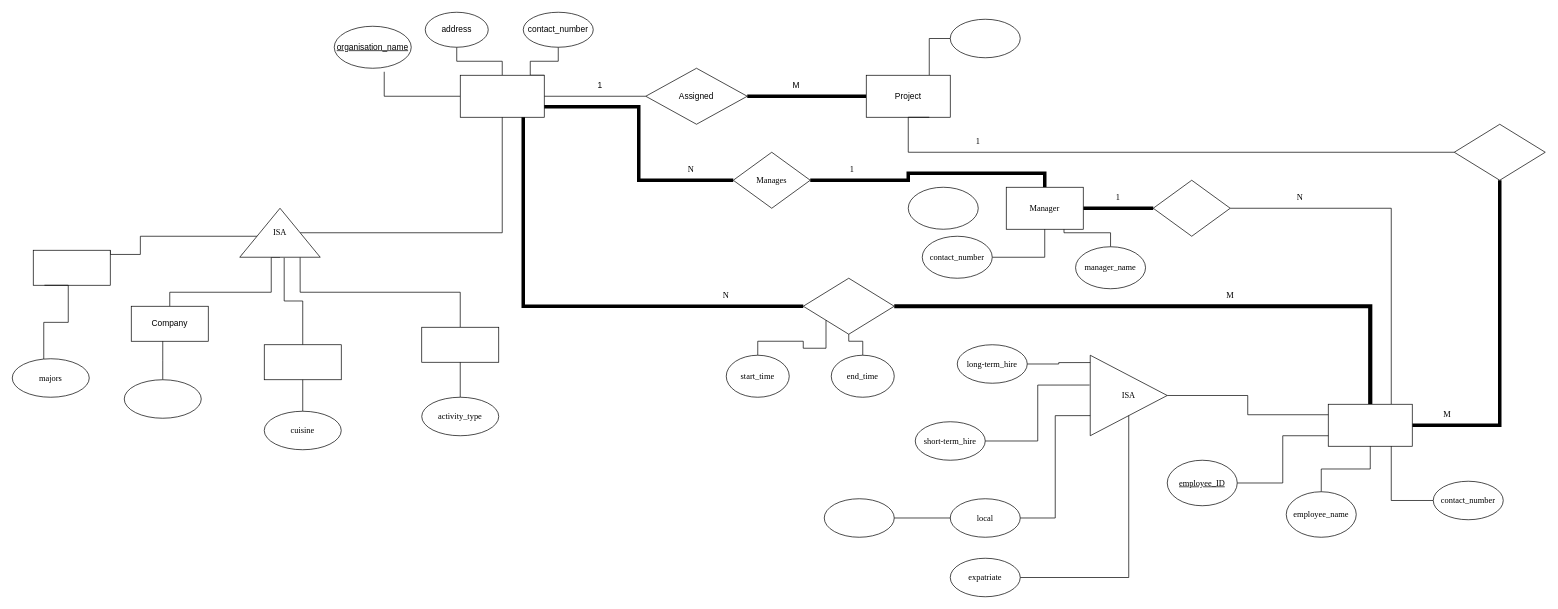
This 1558x609 diagram has some shape labels left out. The centre of each missing label's shape, as x and y in pixels:
Activities Center: [460,344]
Appointed as: [1191,208]
contract_endDate: [859,517]
Employee: [1370,425]
manager_ID: [943,208]
Organisation: [502,96]
product_line: [162,398]
project_ID: [985,38]
University: [71,267]
Vendor: [302,362]
Works for: [848,306]
Works in: [1499,152]
